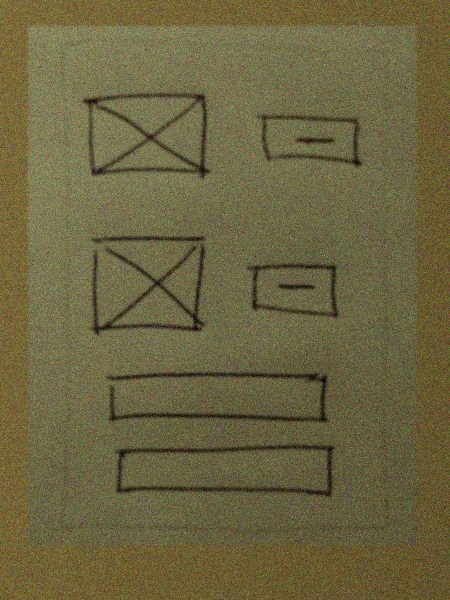button: (252, 106, 371, 175), (241, 252, 347, 326)
image: (86, 230, 210, 342), (81, 91, 223, 188)
text_input: (102, 360, 331, 429), (108, 443, 338, 503)
